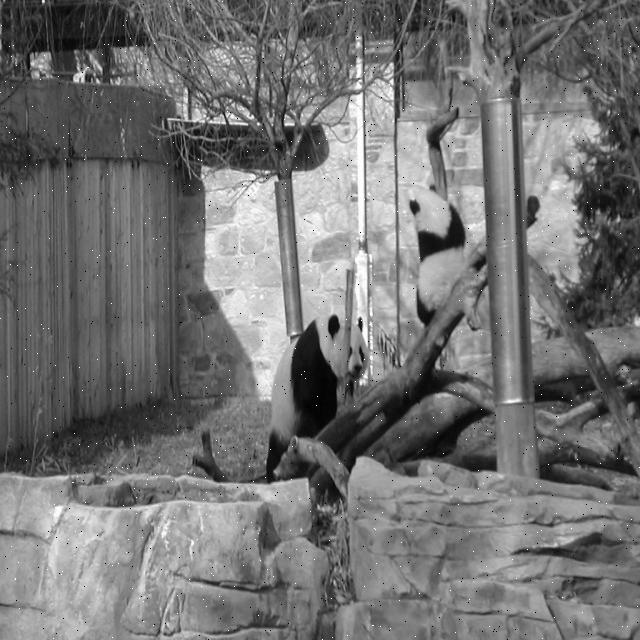panda: (266, 306, 372, 487), (408, 181, 468, 328)
